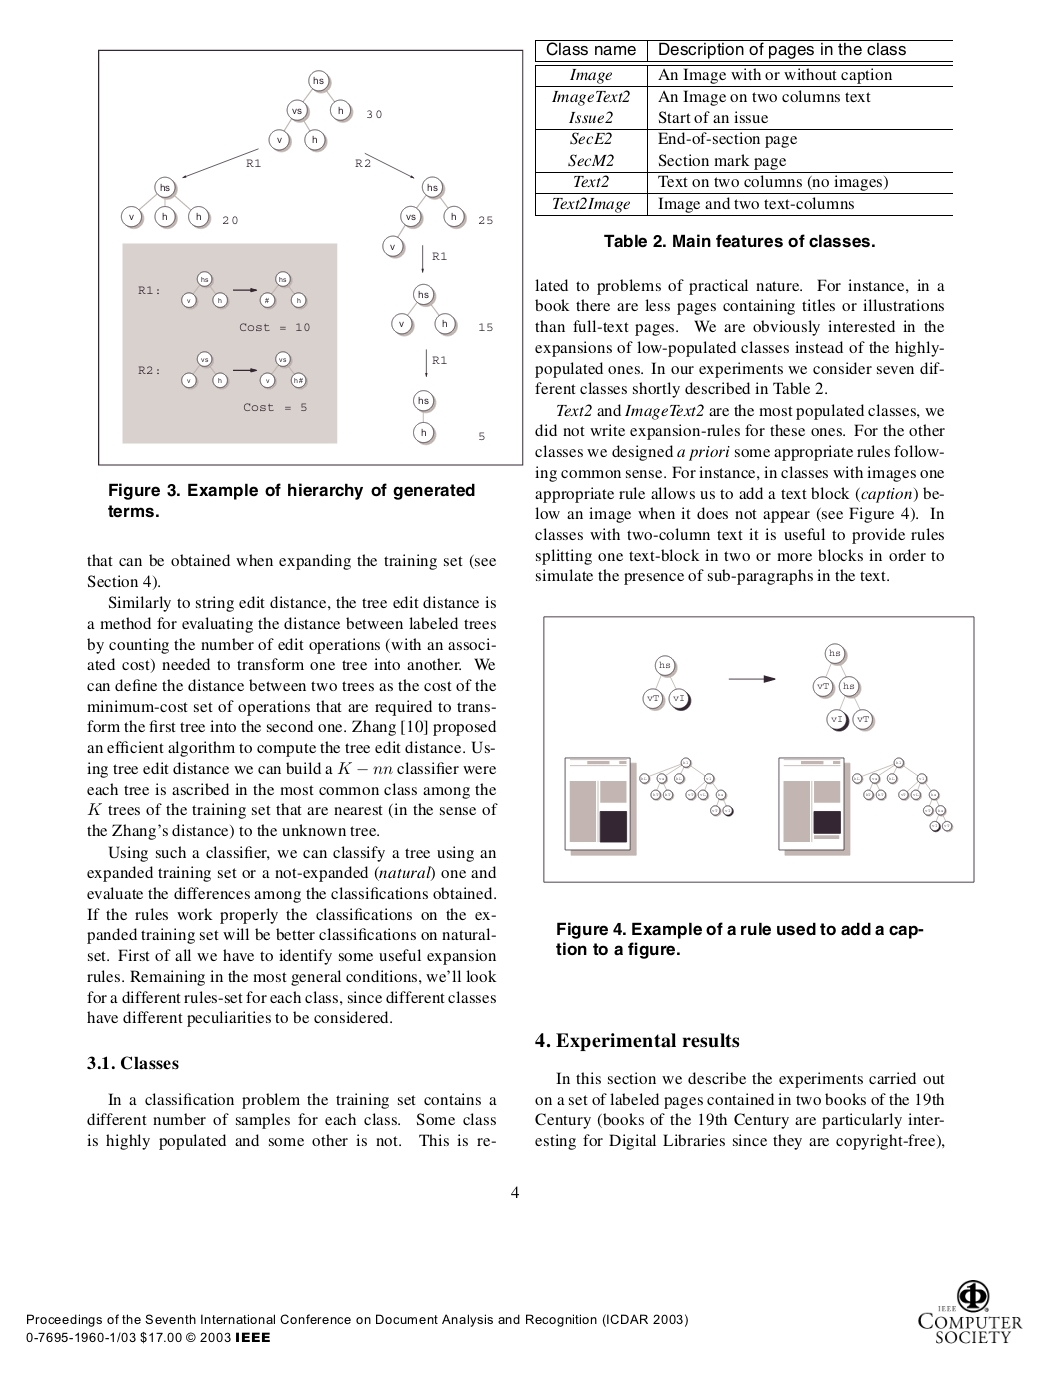Table: (535, 39, 952, 216)
figure: (98, 48, 523, 466), (543, 615, 974, 883), (918, 1281, 1022, 1343)
